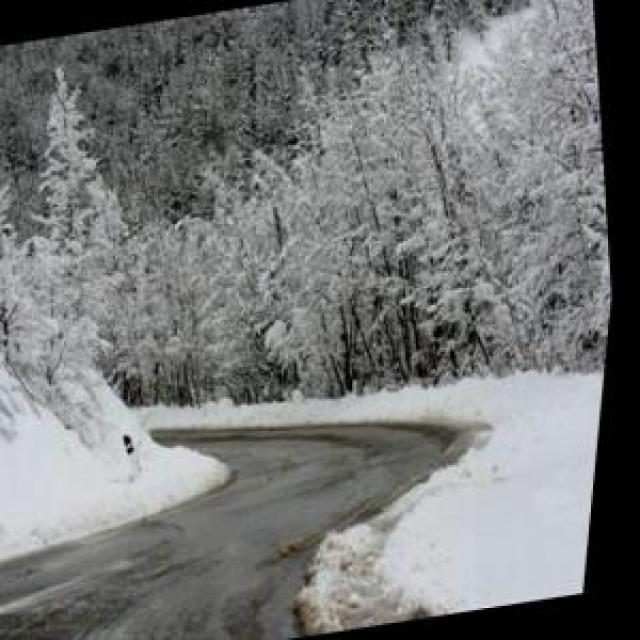ice-road: (0, 419, 476, 640)
